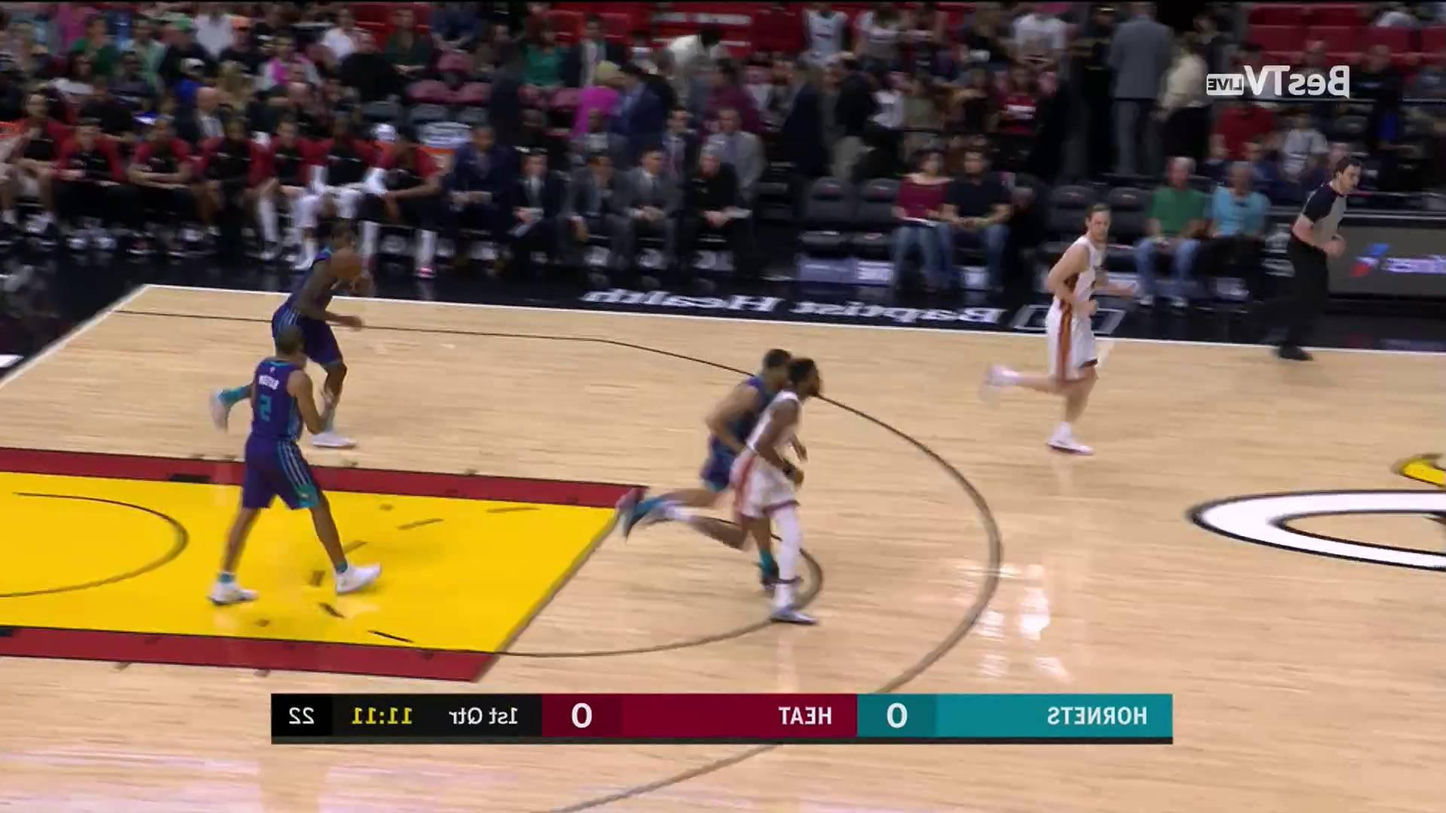basketball: (327, 250, 360, 284)
